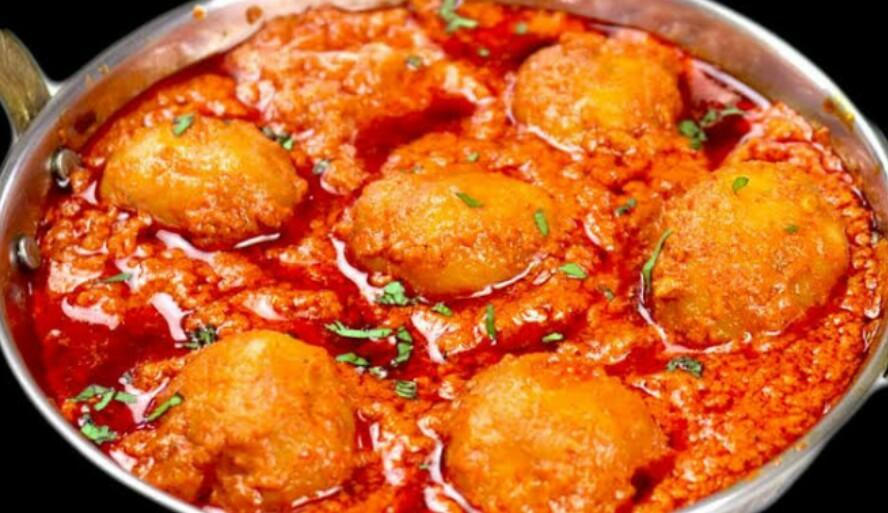DumAloo: (30, 0, 888, 513)
